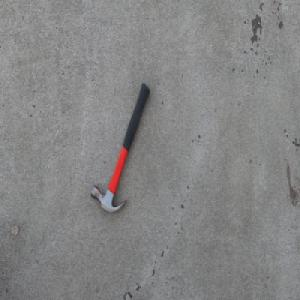Hammer: (90, 81, 151, 214)
